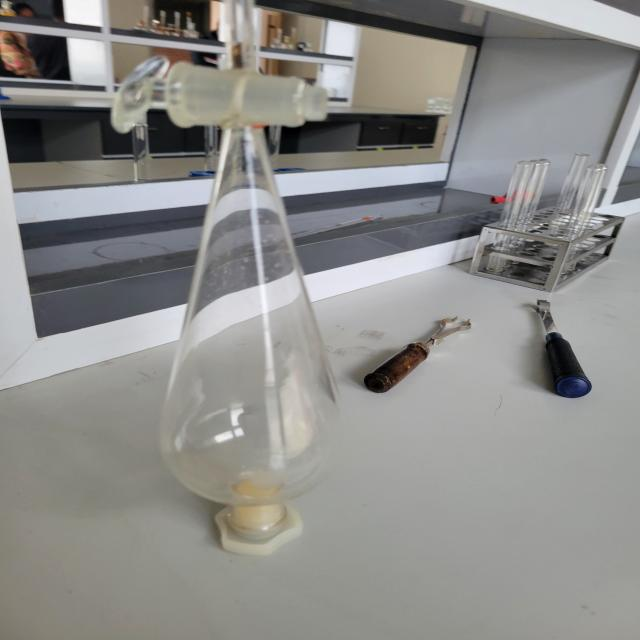Separating_Funnel: (115, 0, 375, 572)
